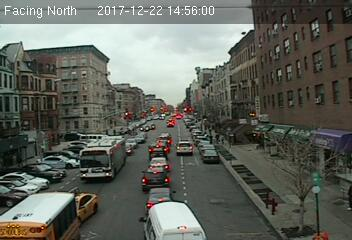bus: (78, 135, 126, 181)
car: (67, 185, 99, 222), (141, 187, 176, 210), (140, 167, 170, 186), (146, 156, 169, 171), (174, 139, 195, 154), (148, 142, 167, 157), (202, 148, 219, 164)
truck: (143, 201, 207, 240)
